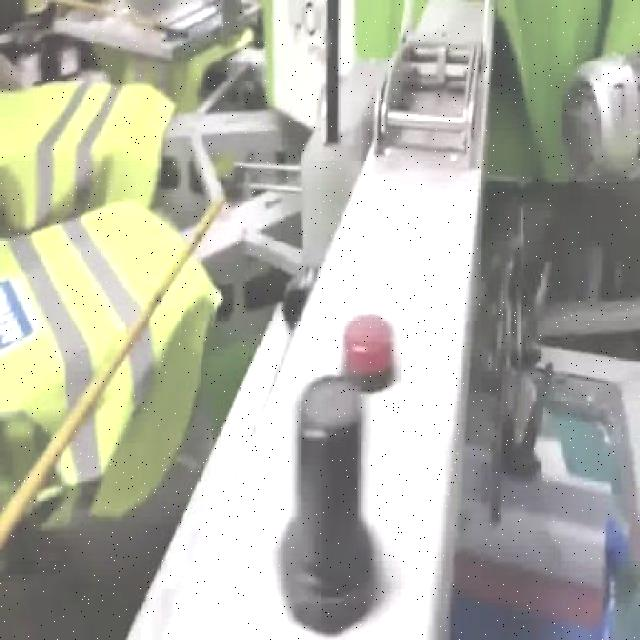Mask: (1, 197, 224, 528), (1, 78, 178, 234)
